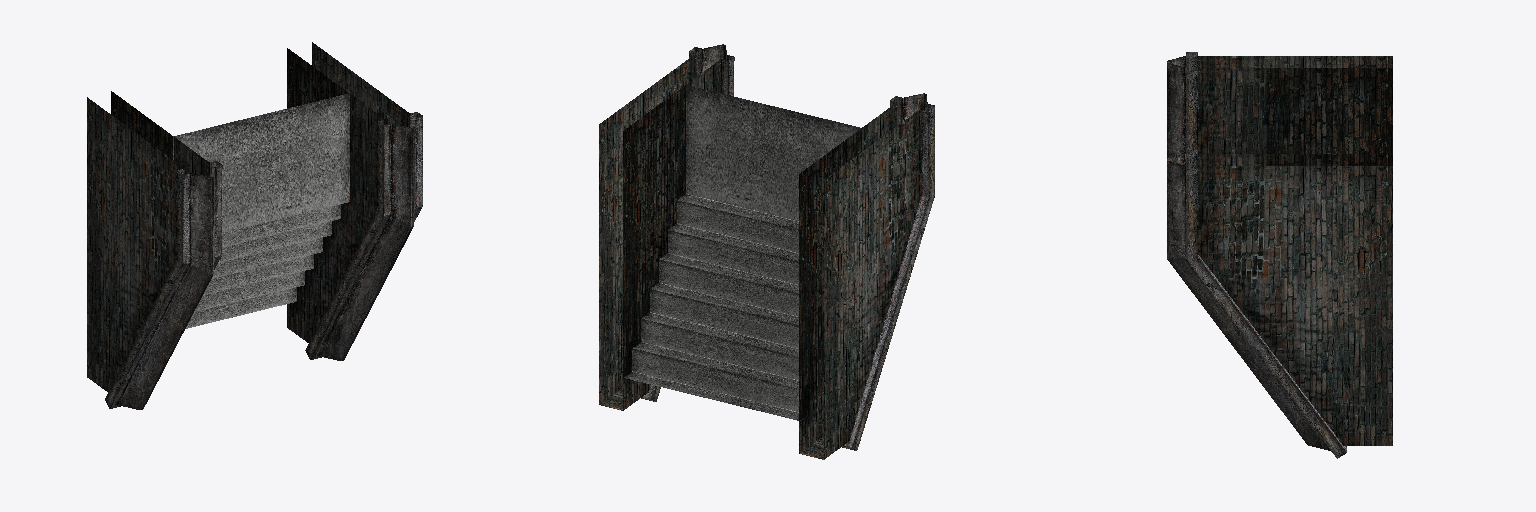
3 renders of one model, left to right at view 1: azimuth 30°, elevation 25°; view 2: azimuth 150°, elevation 25°; view 3: azimuth 270°, elevation 25°, orthographic.
Parts seen in each view (by area): view 1: entrance; view 2: entrance; view 3: entrance.
Part boxes in pixels (left/top/right/bottom): entrance: left=87, top=42, right=422, bottom=409; entrance: left=599, top=44, right=934, bottom=459; entrance: left=1167, top=52, right=1392, bottom=458.
Bounding box in the file's own units: 16.69 × 19.34 × 13.66.
1 materials, 1 textured.